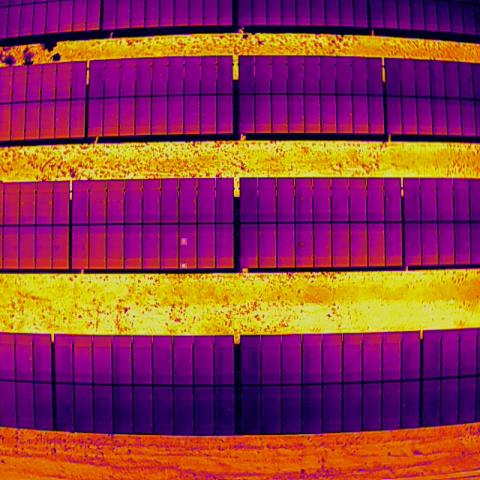fault: (298, 241, 306, 247), (181, 238, 187, 245), (180, 263, 187, 269)
